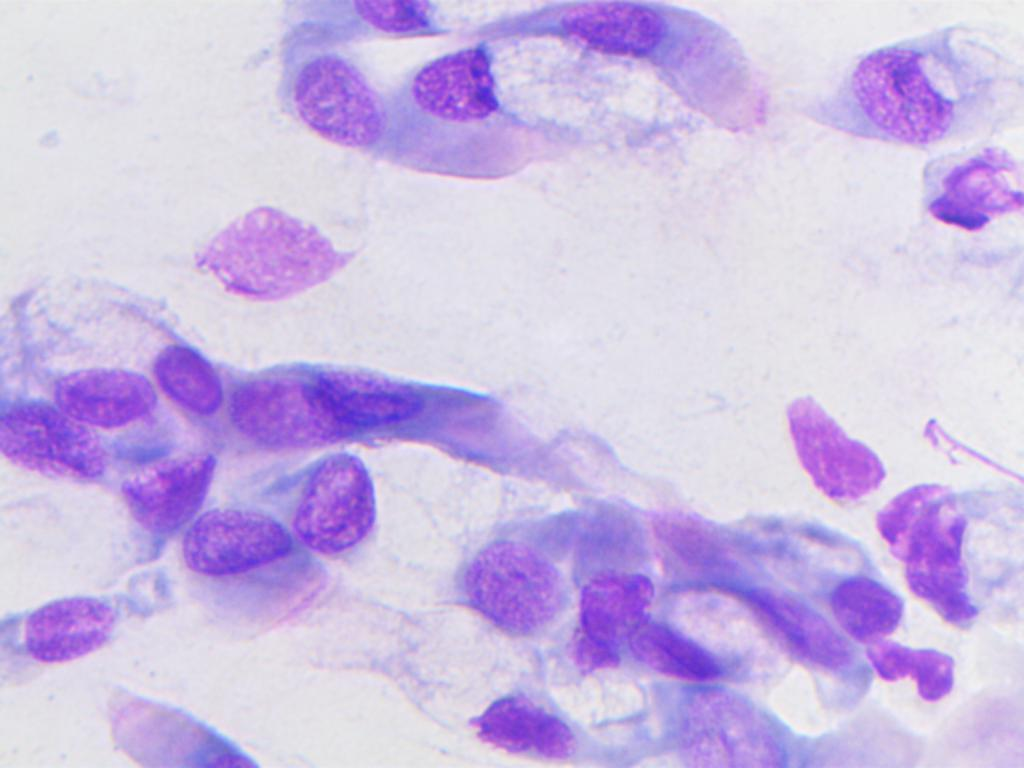artifact: (877, 463, 987, 632), (183, 197, 357, 303), (770, 387, 897, 508), (907, 130, 1024, 237)
ciliated: (274, 47, 545, 185), (564, 0, 770, 137), (78, 677, 263, 768)
epithelial: (735, 526, 910, 640), (443, 514, 576, 651), (849, 34, 960, 151), (283, 447, 396, 556), (4, 574, 134, 668), (577, 493, 657, 643), (228, 352, 342, 451), (0, 399, 114, 498), (176, 496, 293, 590), (111, 440, 222, 538), (27, 362, 155, 426), (152, 340, 227, 431)
goblet_cell: (406, 38, 748, 180), (373, 596, 583, 764)
neutrophil: (856, 637, 978, 702)
